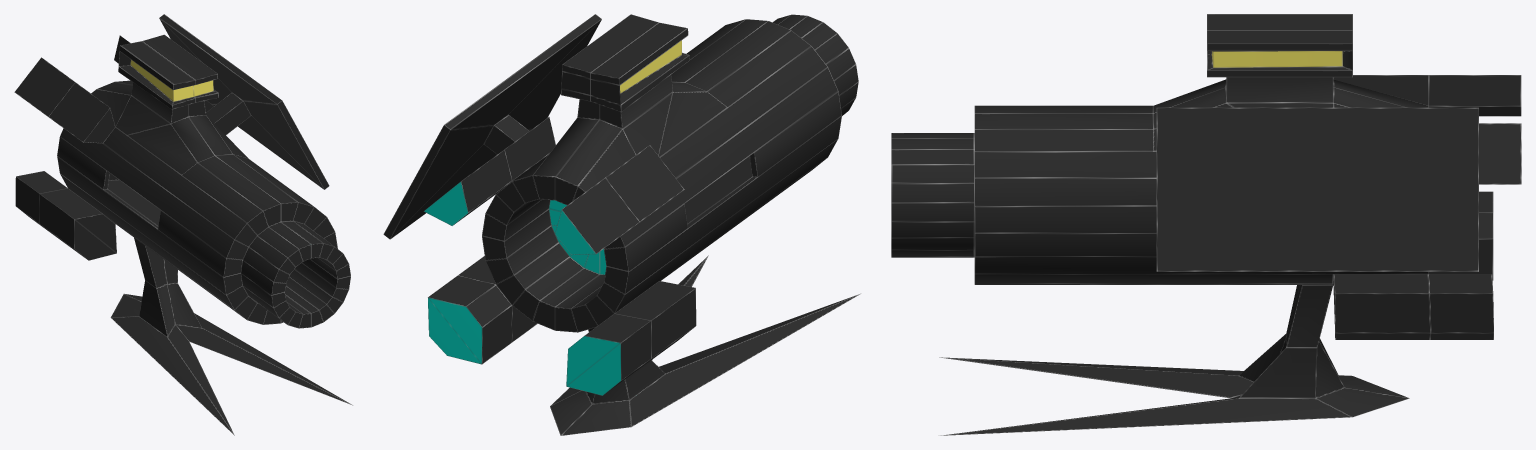
Rendered from ModelStarship.fbx.
3 views of the same model, side by side, from view 1: azimuth 30°, elevation 25°; view 2: azimuth 150°, elevation 25°; view 3: azimuth 270°, elevation 25° (orthographic). The views are drawn at different scales.
Parts seen in each view (by area): view 1: pModelStarship; view 2: pModelStarship; view 3: pModelStarship.
Boxes of the visible parts, x1,y1,x2,y2 form: pModelStarship: (14,14,353,435); pModelStarship: (383,14,861,435); pModelStarship: (891,14,1521,435).
Bounding box in the file's own units: 4.79 × 6.47 × 10.04.
